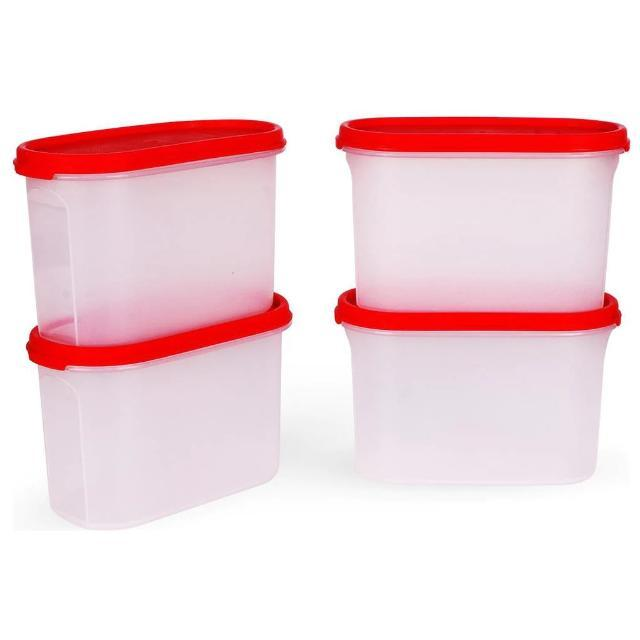plastic: (14, 120, 292, 525), (334, 117, 629, 483)
